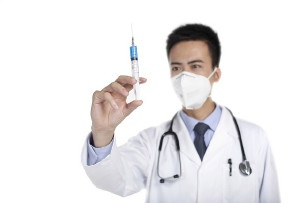Mask: (168, 58, 215, 105)
